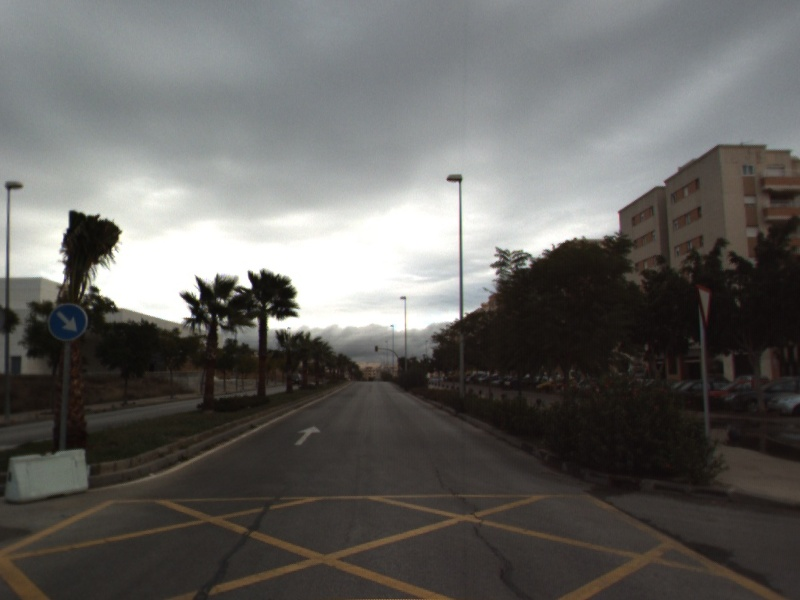STRAIGHT: (292, 424, 324, 447)
